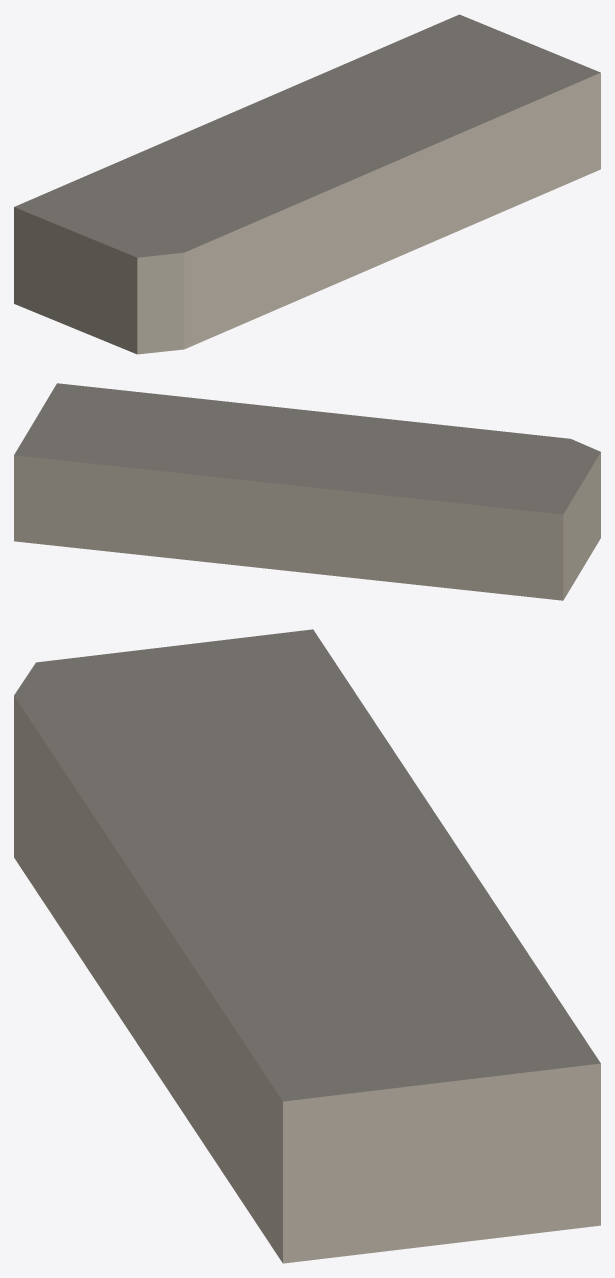
3 views of the same model, one above another, from view 1: azimuth 30°, elevation 25°; view 2: azimuth 150°, elevation 25°; view 3: azimuth 270°, elevation 25° (orthographic). The views are drawn at different scales.
Parts seen in each view (by area): view 1: HP-w380339903; view 2: HP-w380339903; view 3: HP-w380339903.
Boxes of the visible parts, box(x1,y1,x2,y2) form: HP-w380339903: box(14, 14, 600, 354); HP-w380339903: box(14, 383, 600, 600); HP-w380339903: box(14, 629, 600, 1263).
Bounding box in the file's own units: 74.99 × 12 × 39.39.
